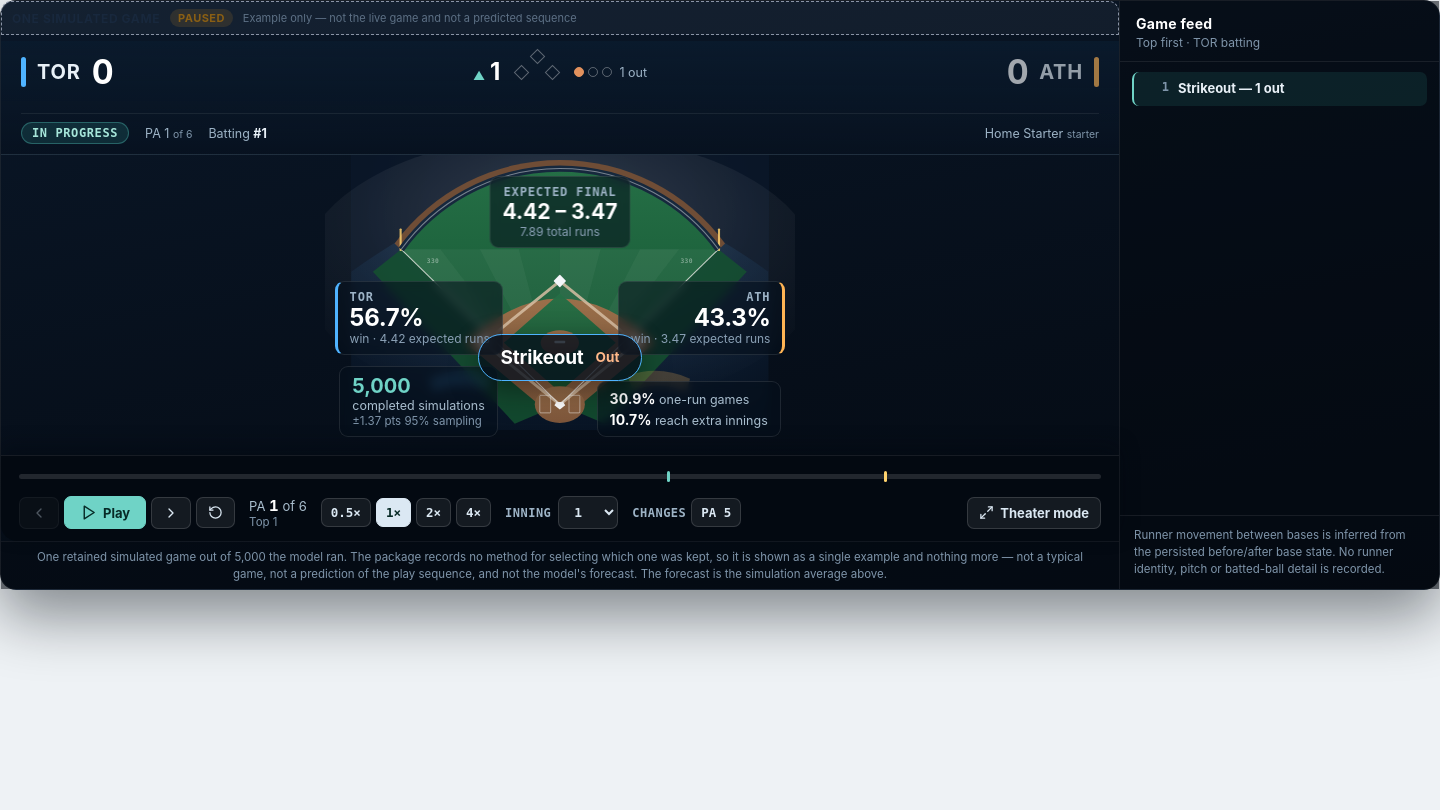
the scorebug reflects persisted state › reports extra innings and then the final from the path itself
Set the slider named "Plate appearance 1 of 6" to "5": (560,498) 1,455 -> 1119,541
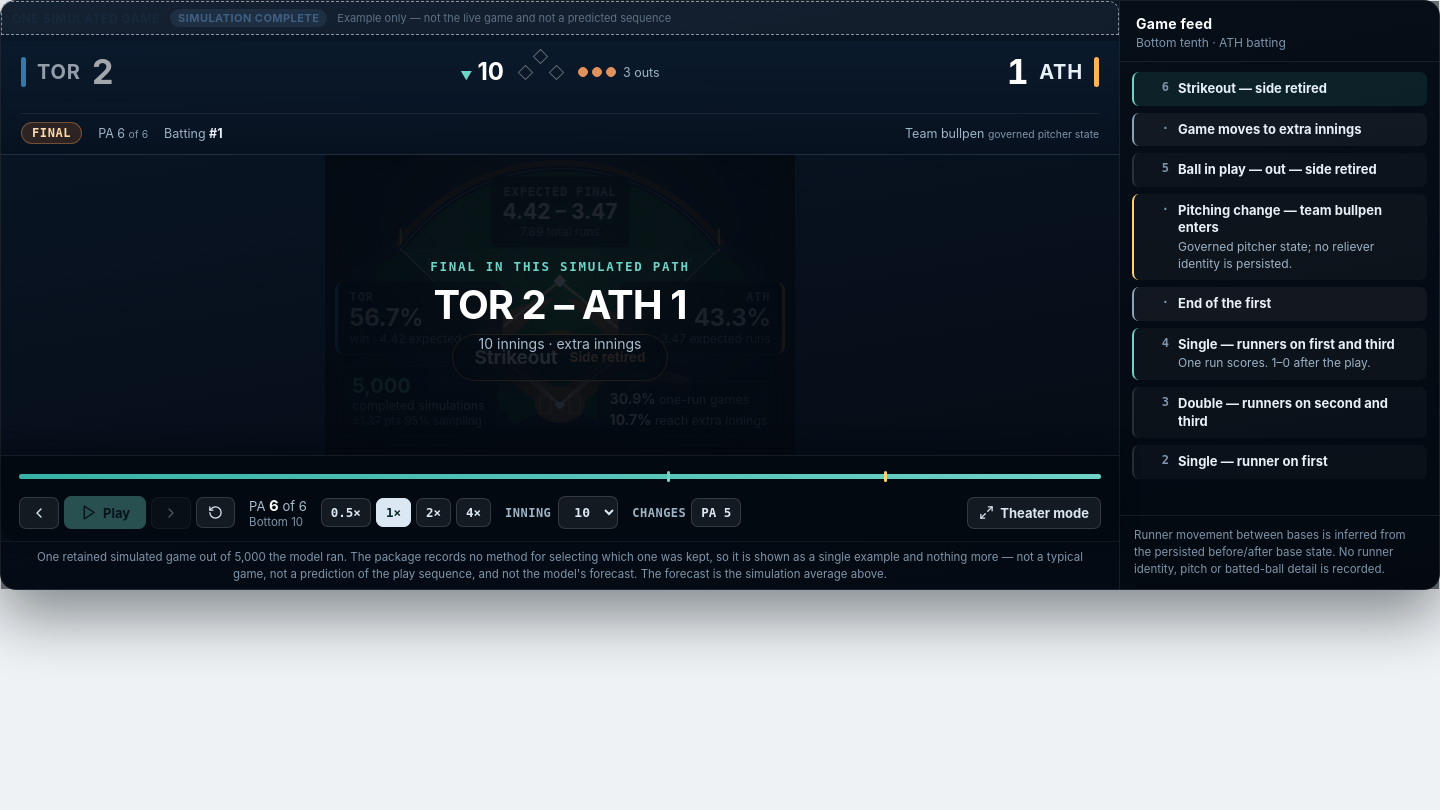
Now the element named "scoreboard" shows "Final", box 32,126 -> 71,140
Now the text "Final in this simulated path" is shown, box 430,258 -> 690,274
Now the text "TOR 2 – ATH 1" is shown, box 434,280 -> 686,328
